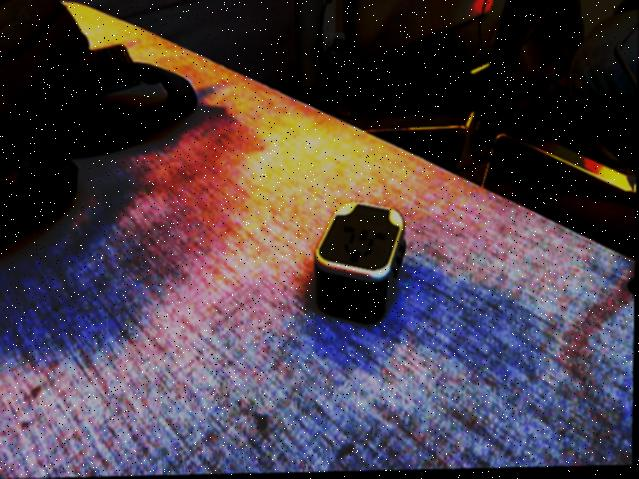adapter: (313, 202, 409, 327)
